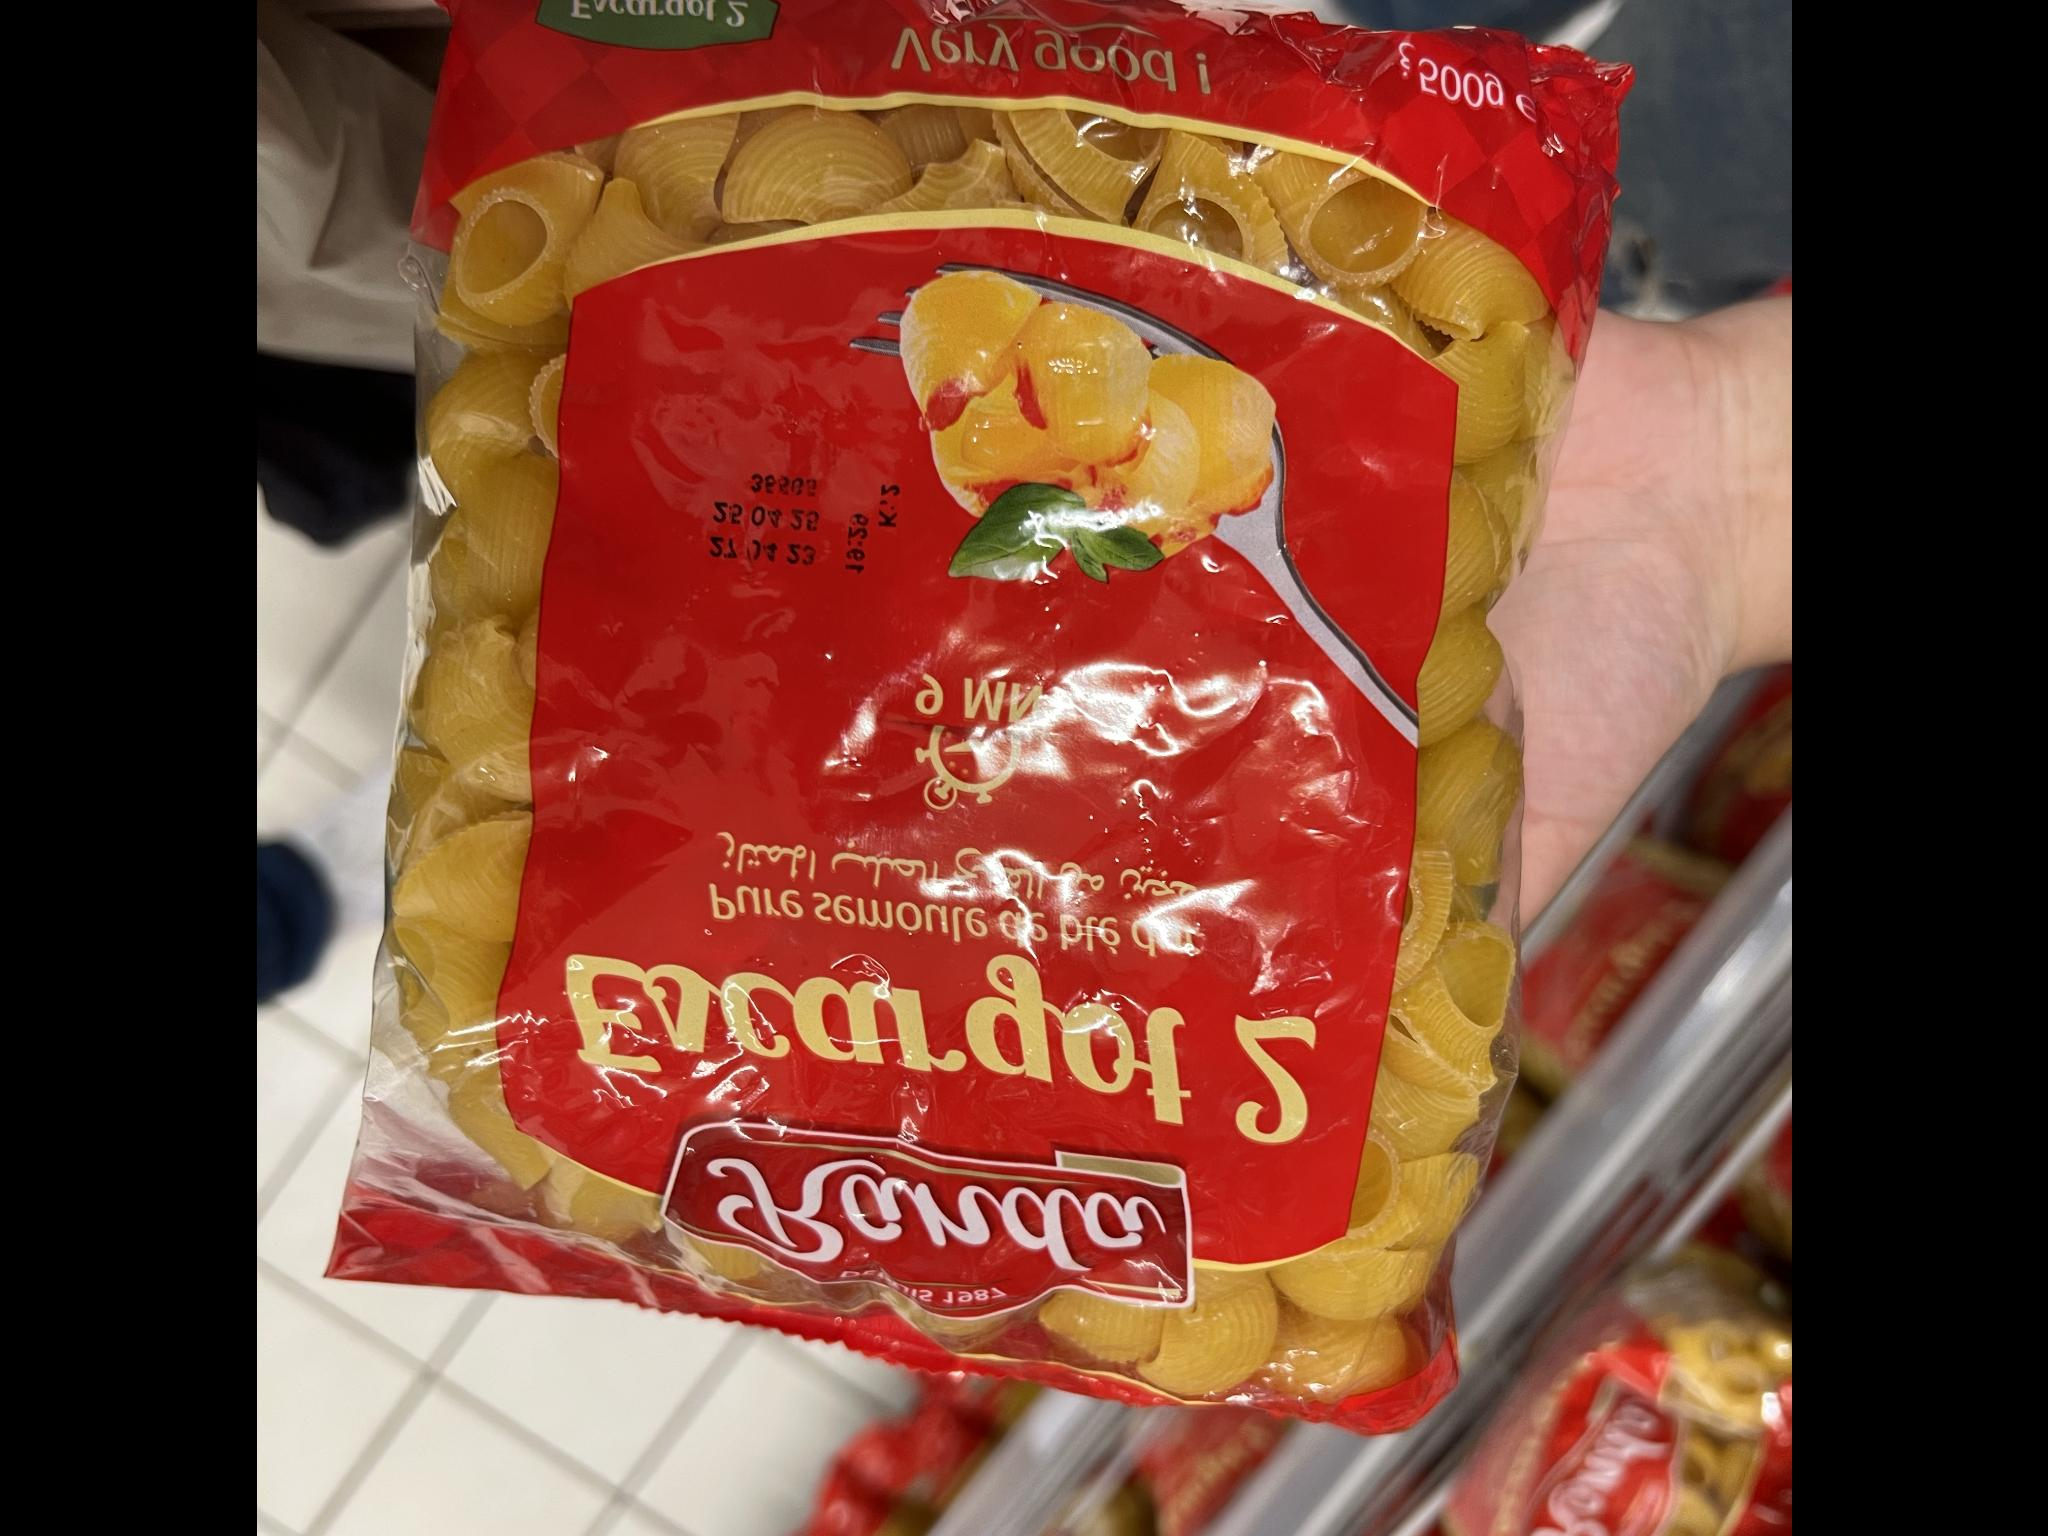Escargot: (339, 0, 1579, 1391)
